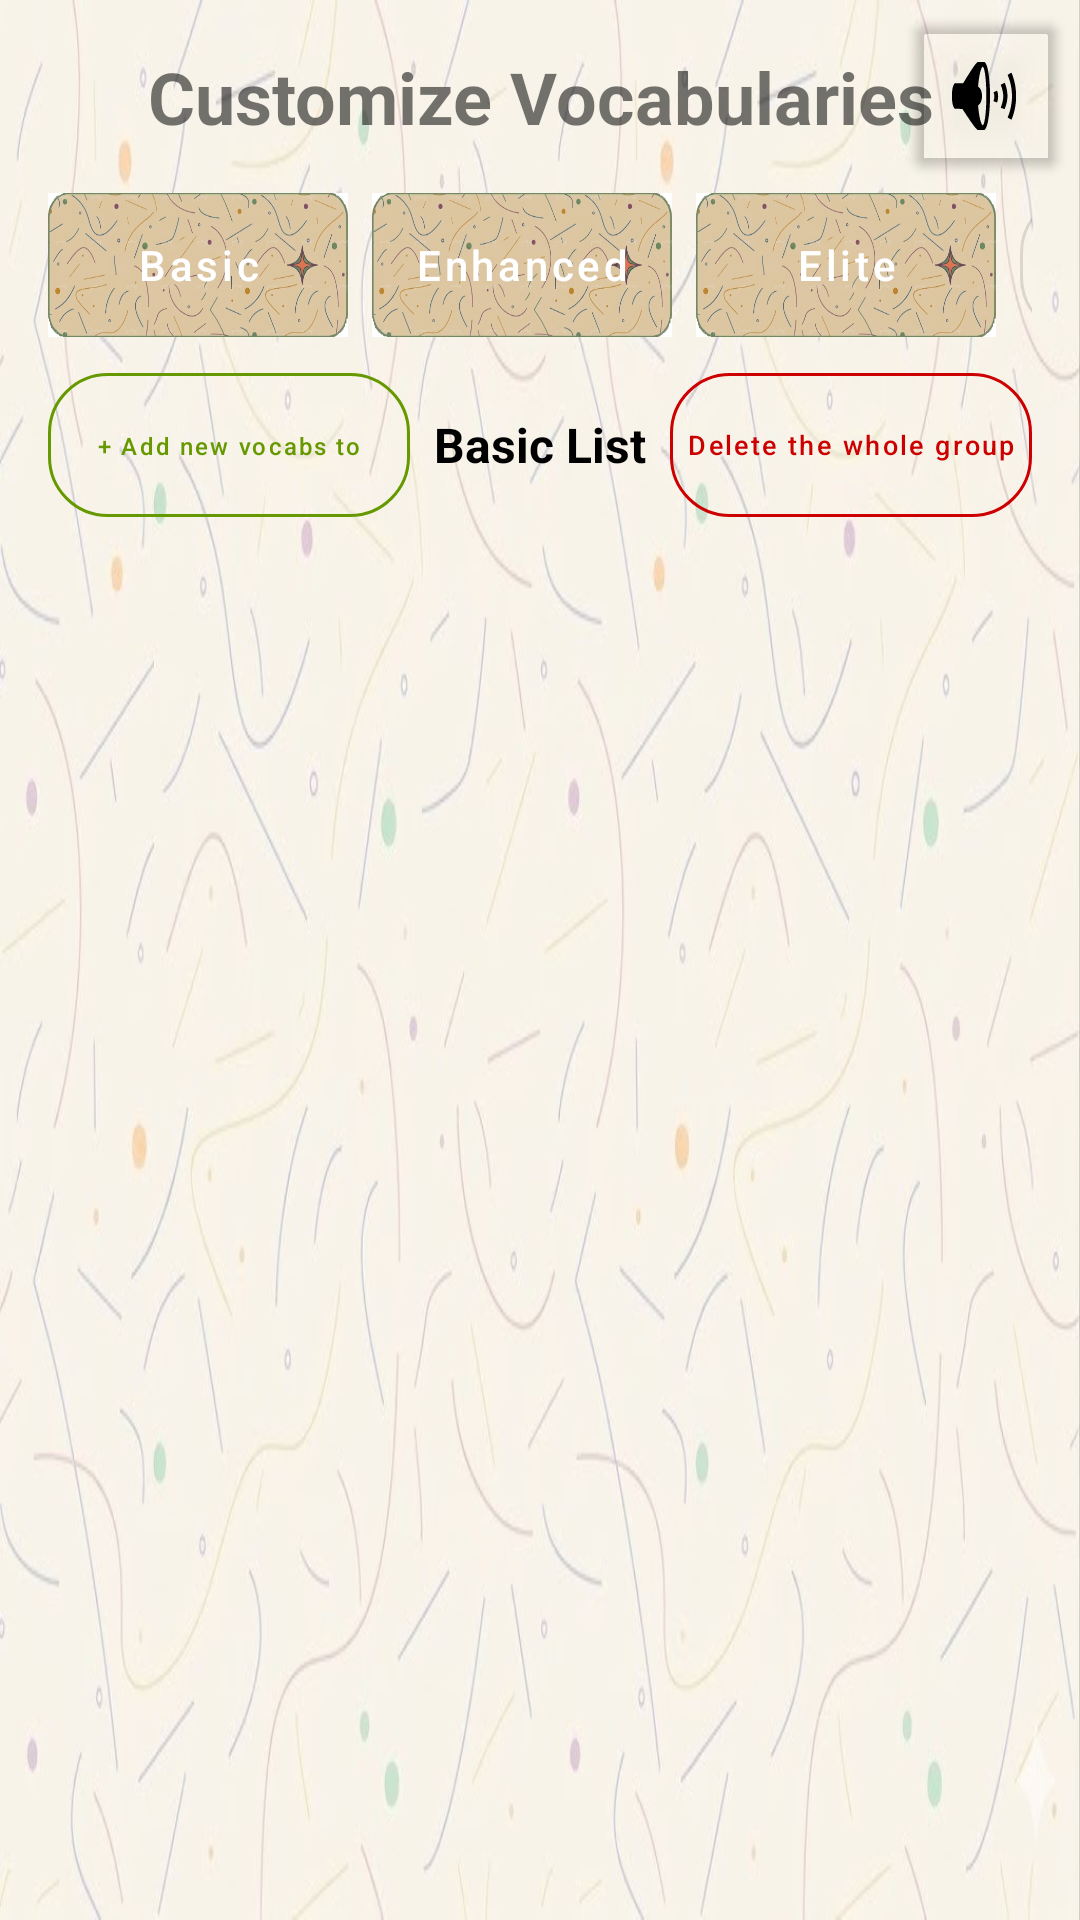

Icons on this 1080w x 1920h Android screen, each with the point to tap as (x=x, y=y):
lock silent mode off: (x=984, y=96)
